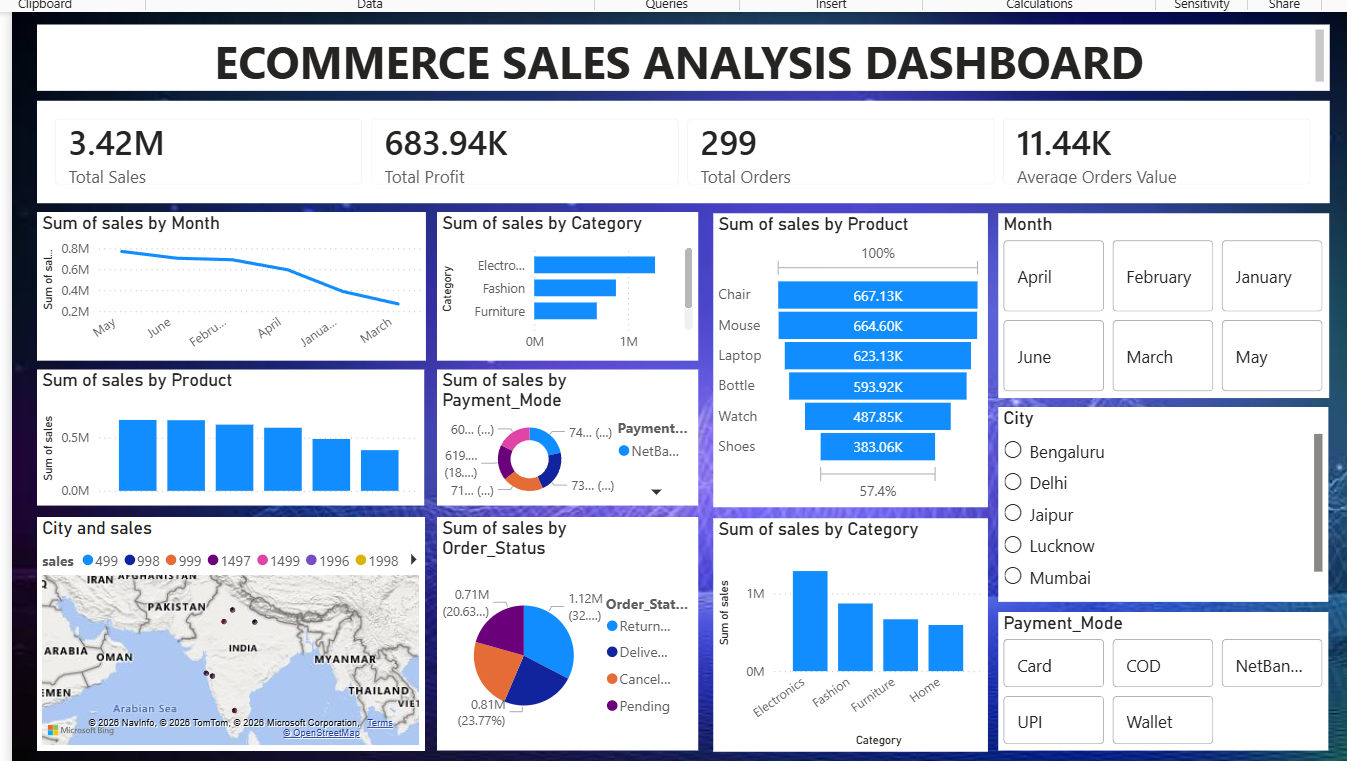

The dashboard page shown, as its layout file describes it:
{"tool":"powerbi","page":{"name":"Page 1","canvas":[1280,720],"ordinal":0},"visuals":[{"type":"cardVisual","fields":{"Data":["Measure dax.Total Sales","Measure dax.Total Profit","Measure dax.Total Orders","Measure dax.Average Orders Value"]},"box":[23.8,84.5,1231,97.6],"z":0},{"type":"textbox","box":[23.8,11.9,1231,63.1],"z":1000},{"type":"lineChart","fields":{"Category":["orders.Month"],"Y":["Sum(orders.sales)"]},"box":[23.8,190.5,370.2,141.7],"z":2000},{"type":"barChart","fields":{"Category":["orders.Category"],"Y":["Sum(orders.sales)"]},"box":[404.8,190.5,248.8,141.7],"z":3000},{"type":"columnChart","fields":{"Category":["orders.Product"],"Y":["Sum(orders.sales)"]},"box":[23.8,340.5,369,129.8],"z":4000},{"type":"map","fields":{"Category":["orders.City"],"Series":["orders.sales"]},"box":[23.8,481,369,222.6],"z":5000},{"type":"donutChart","fields":{"Category":["orders.Payment_Mode"],"Y":["Sum(orders.sales)"]},"box":[404.8,340.5,248.8,129.8],"z":6000},{"type":"pieChart","fields":{"Category":["orders.Order_Status"],"Y":["Sum(orders.sales)"]},"box":[404.8,481,248.8,222.6],"z":7000},{"type":"funnel","fields":{"Category":["orders.Product"],"Y":["Sum(orders.sales)"]},"box":[667.9,191.7,261.9,279.8],"z":8000},{"type":"columnChart","fields":{"Category":["orders.Category"],"Y":["Sum(orders.sales)"]},"box":[667.9,482.1,261.9,222.6],"z":9000},{"type":"advancedSlicerVisual","fields":{"Values":["orders.Month"]},"box":[939.3,191.7,315.5,176.2],"z":10000},{"type":"listSlicer","fields":{"Values":["orders.City"]},"box":[939.3,376.2,314.3,185.7],"z":11000},{"type":"advancedSlicerVisual","fields":{"Values":["orders.Payment_Mode"]},"box":[939.3,571.4,314.3,132.1],"z":11001}]}

Visuals, with their boxes in screenshot pixels (x1, y1, x2, y2):
cardVisual - Measure dax.Total Sales x Measure dax.Total Profit: <box>39,98,1316,200</box>
textbox: <box>39,23,1316,88</box>
lineChart - orders.Month x Sum(orders.sales): <box>39,208,423,355</box>
barChart - orders.Category x Sum(orders.sales): <box>434,208,692,355</box>
columnChart - orders.Product x Sum(orders.sales): <box>39,364,422,499</box>
map - orders.City x orders.sales: <box>39,510,422,741</box>
donutChart - orders.Payment_Mode x Sum(orders.sales): <box>434,364,692,499</box>
pieChart - orders.Order_Status x Sum(orders.sales): <box>434,510,692,741</box>
funnel - orders.Product x Sum(orders.sales): <box>707,209,979,500</box>
columnChart - orders.Category x Sum(orders.sales): <box>707,511,979,742</box>
advancedSlicerVisual - orders.Month: <box>989,209,1316,392</box>
listSlicer - orders.City: <box>989,401,1315,594</box>
advancedSlicerVisual - orders.Payment_Mode: <box>989,604,1315,741</box>
